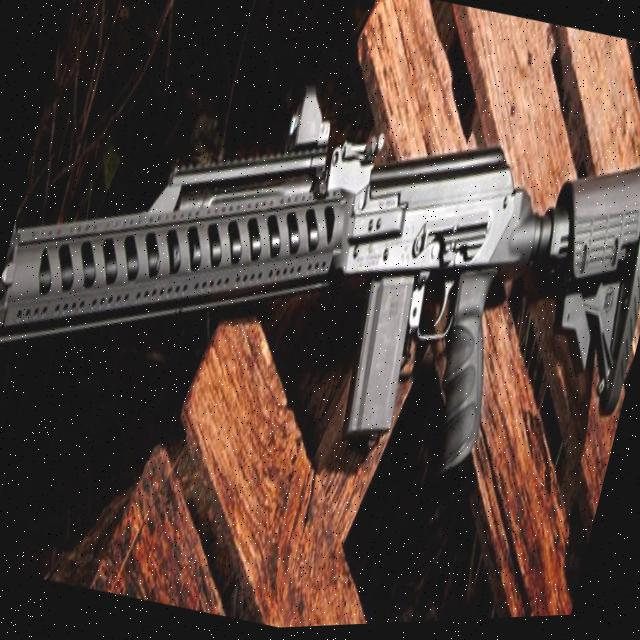firearm: (0, 4, 640, 541)
